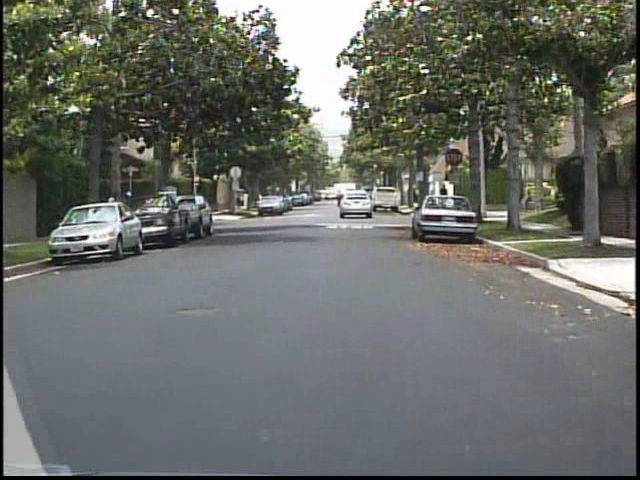person: (106, 189, 124, 233), (435, 179, 452, 213)
